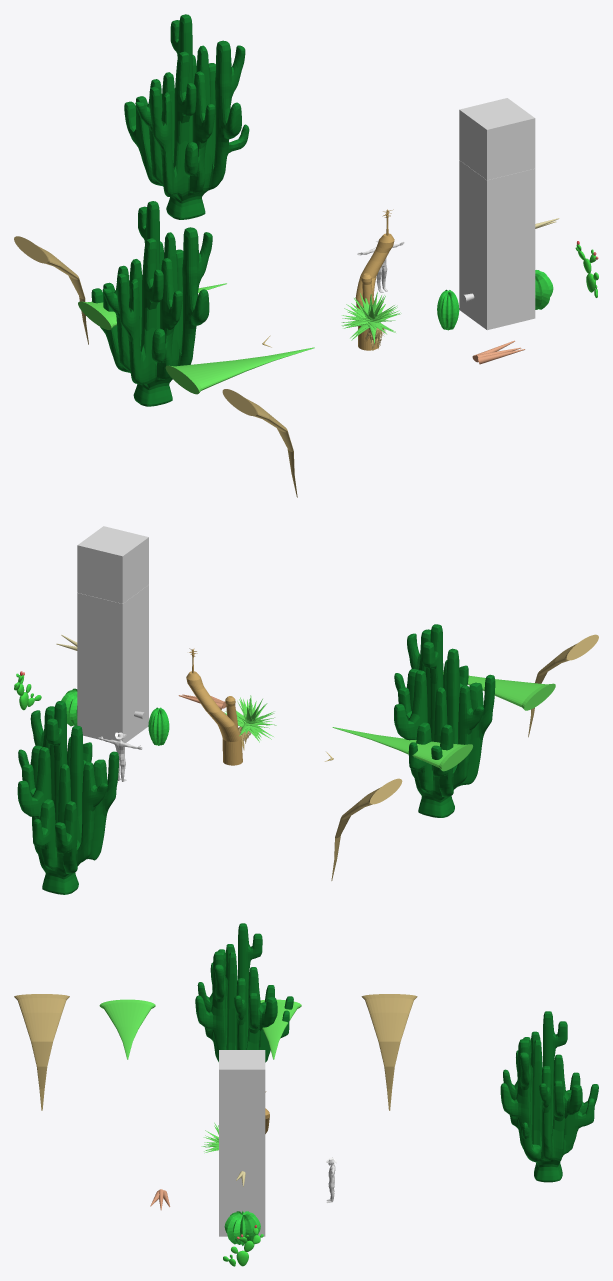
The model's file is juca3.fbx.
3 renders of one model, top to bottom at view 1: azimuth 30°, elevation 25°; view 2: azimuth 150°, elevation 25°; view 3: azimuth 270°, elevation 25°, orthographic. The views are drawn at different scales.
Visible parts, largest first — view 1: Plane, Plane.001, Cube.006, Cube.005, Cube.004, Cube.003, leaf1, plant3, leaf2, leaf2.001, leaf1.001, Cactus4; view 2: Plane, Plane.001, Cube.006, Cube.004, Cube.005, Cube.003, plant3, leaf1.001, leaf1, leaf2.001, leaf2, Cactus4; view 3: Plane, Plane.001, Cube.006, leaf2.001, leaf2, Cube.005, Cube.004, leaf1, Cube.003, CactusBody.003, leaf1.001, nopal.
Boxes of the visible parts, left/top/right/bottom form: Plane: left=124, top=14, right=249, bottom=219; Plane.001: left=91, top=201, right=212, bottom=406; Cube.006: left=459, top=98, right=535, bottom=180; Cube.005: left=459, top=160, right=535, bottom=230; Cube.004: left=459, top=211, right=535, bottom=279; Cube.003: left=459, top=260, right=535, bottom=330; leaf1: left=165, top=347, right=314, bottom=394; plant3: left=355, top=209, right=394, bottom=350; leaf2: left=222, top=389, right=297, bottom=497; leaf2.001: left=14, top=236, right=88, bottom=344; leaf1.001: left=78, top=283, right=226, bottom=329; Cactus4: left=437, top=289, right=459, bottom=330; Plane: left=17, top=701, right=118, bottom=894; Plane.001: left=394, top=624, right=495, bottom=817; Cube.006: left=77, top=526, right=148, bottom=603; Cube.004: left=77, top=631, right=148, bottom=697; Cube.005: left=77, top=585, right=148, bottom=650; Cube.003: left=77, top=679, right=148, bottom=742; plant3: left=186, top=648, right=242, bottom=765; leaf1.001: left=332, top=727, right=472, bottom=771; leaf1: left=443, top=672, right=555, bottom=710; leaf2.001: left=331, top=778, right=402, bottom=880; leaf2: left=528, top=634, right=598, bottom=737; Cactus4: left=148, top=707, right=169, bottom=745; Plane: left=500, top=1011, right=598, bottom=1182; Plane.001: left=195, top=923, right=293, bottom=1062; Cube.006: left=219, top=1050, right=265, bottom=1111; leaf2.001: left=361, top=994, right=417, bottom=1110; leaf2: left=14, top=994, right=69, bottom=1110; Cube.005: left=219, top=1111, right=265, bottom=1153; Cube.004: left=219, top=1153, right=265, bottom=1194; leaf1: left=99, top=999, right=155, bottom=1059; Cube.003: left=219, top=1194, right=265, bottom=1236; CactusBody.003: left=224, top=1211, right=260, bottom=1245; leaf1.001: left=260, top=999, right=301, bottom=1059; nopal: left=223, top=1228, right=263, bottom=1266.
Bounding box in the file's own units: 2046 × 863 × 2526.
